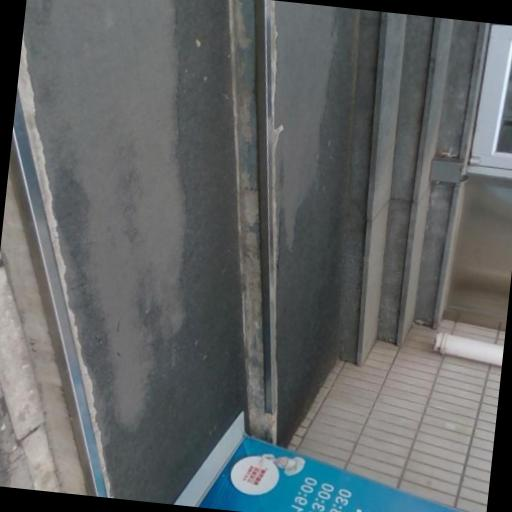stairs: (335, 10, 460, 362)
